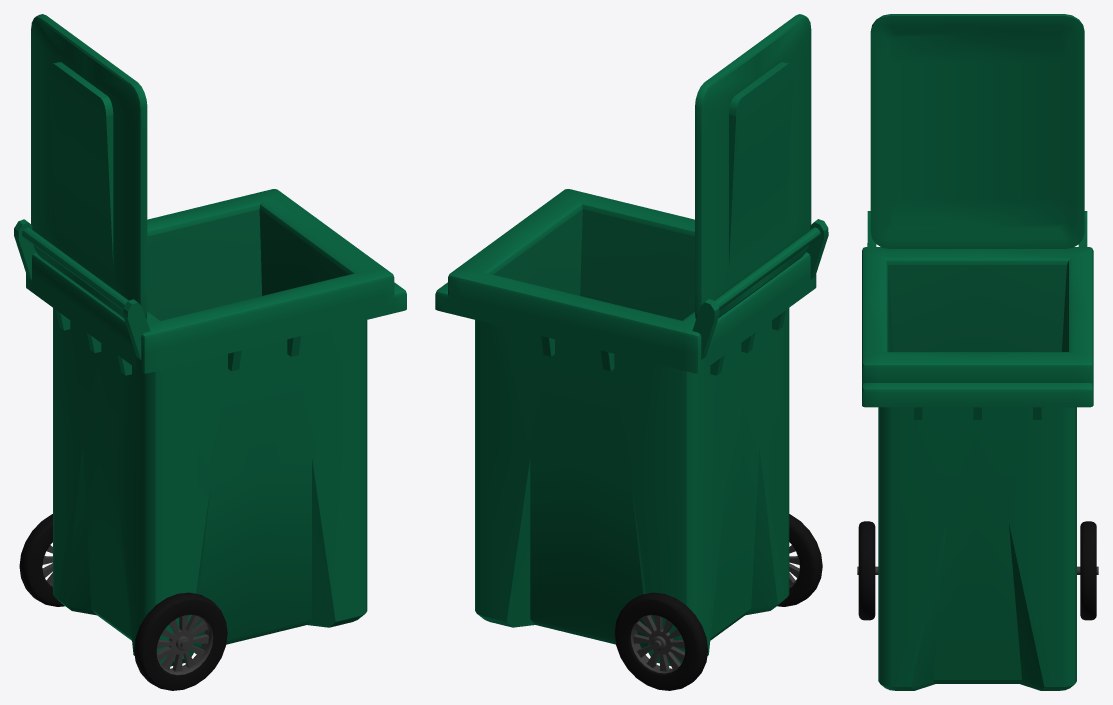
Rendered from Wheelie_Bin_Open.glb.
3 views of the same model, side by side, from view 1: azimuth 30°, elevation 25°; view 2: azimuth 150°, elevation 25°; view 3: azimuth 270°, elevation 25° (orthographic). The views are drawn at different scales.
Visible parts, largest first — view 1: Mesh_Wheelie_Bin_Open; view 2: Mesh_Wheelie_Bin_Open; view 3: Mesh_Wheelie_Bin_Open.
Part boxes in pixels (box(x1,y1,x2,y2)): Mesh_Wheelie_Bin_Open: box(14, 14, 406, 690); Mesh_Wheelie_Bin_Open: box(435, 14, 828, 690); Mesh_Wheelie_Bin_Open: box(857, 14, 1098, 690).
Bounding box in the file's own units: 0.937 × 1.95 × 0.7301.
Materials: 1 (1 with a texture image).
